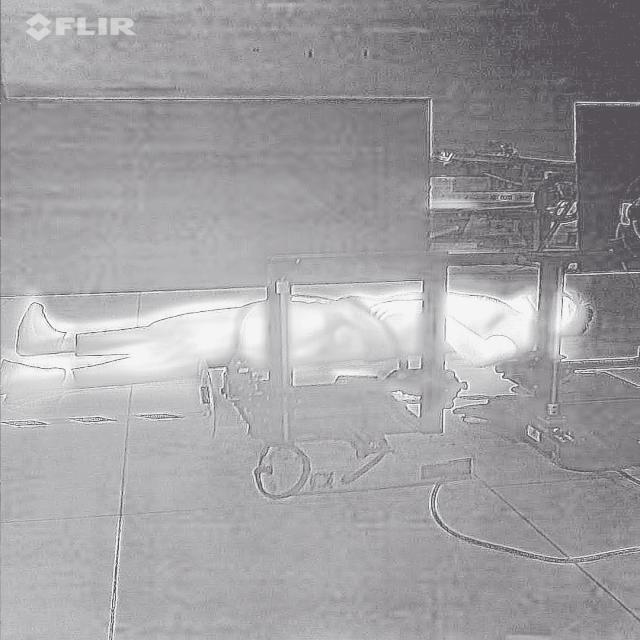Victim: (1, 281, 595, 403)
